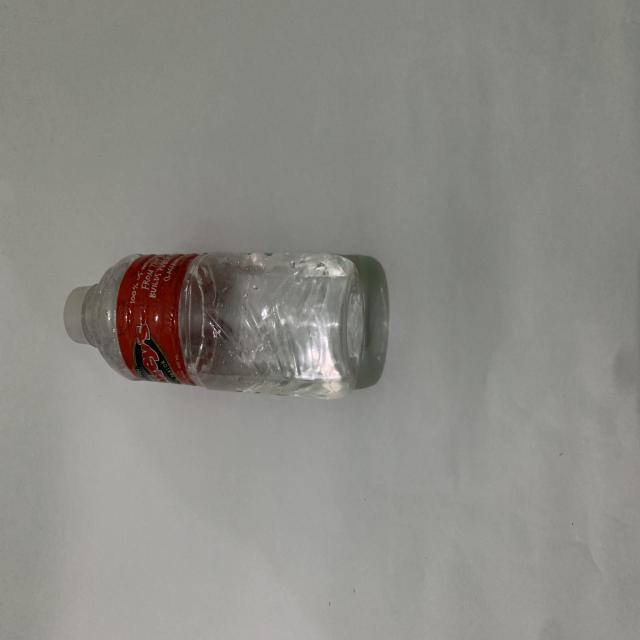bottle: (237, 60, 396, 370)
